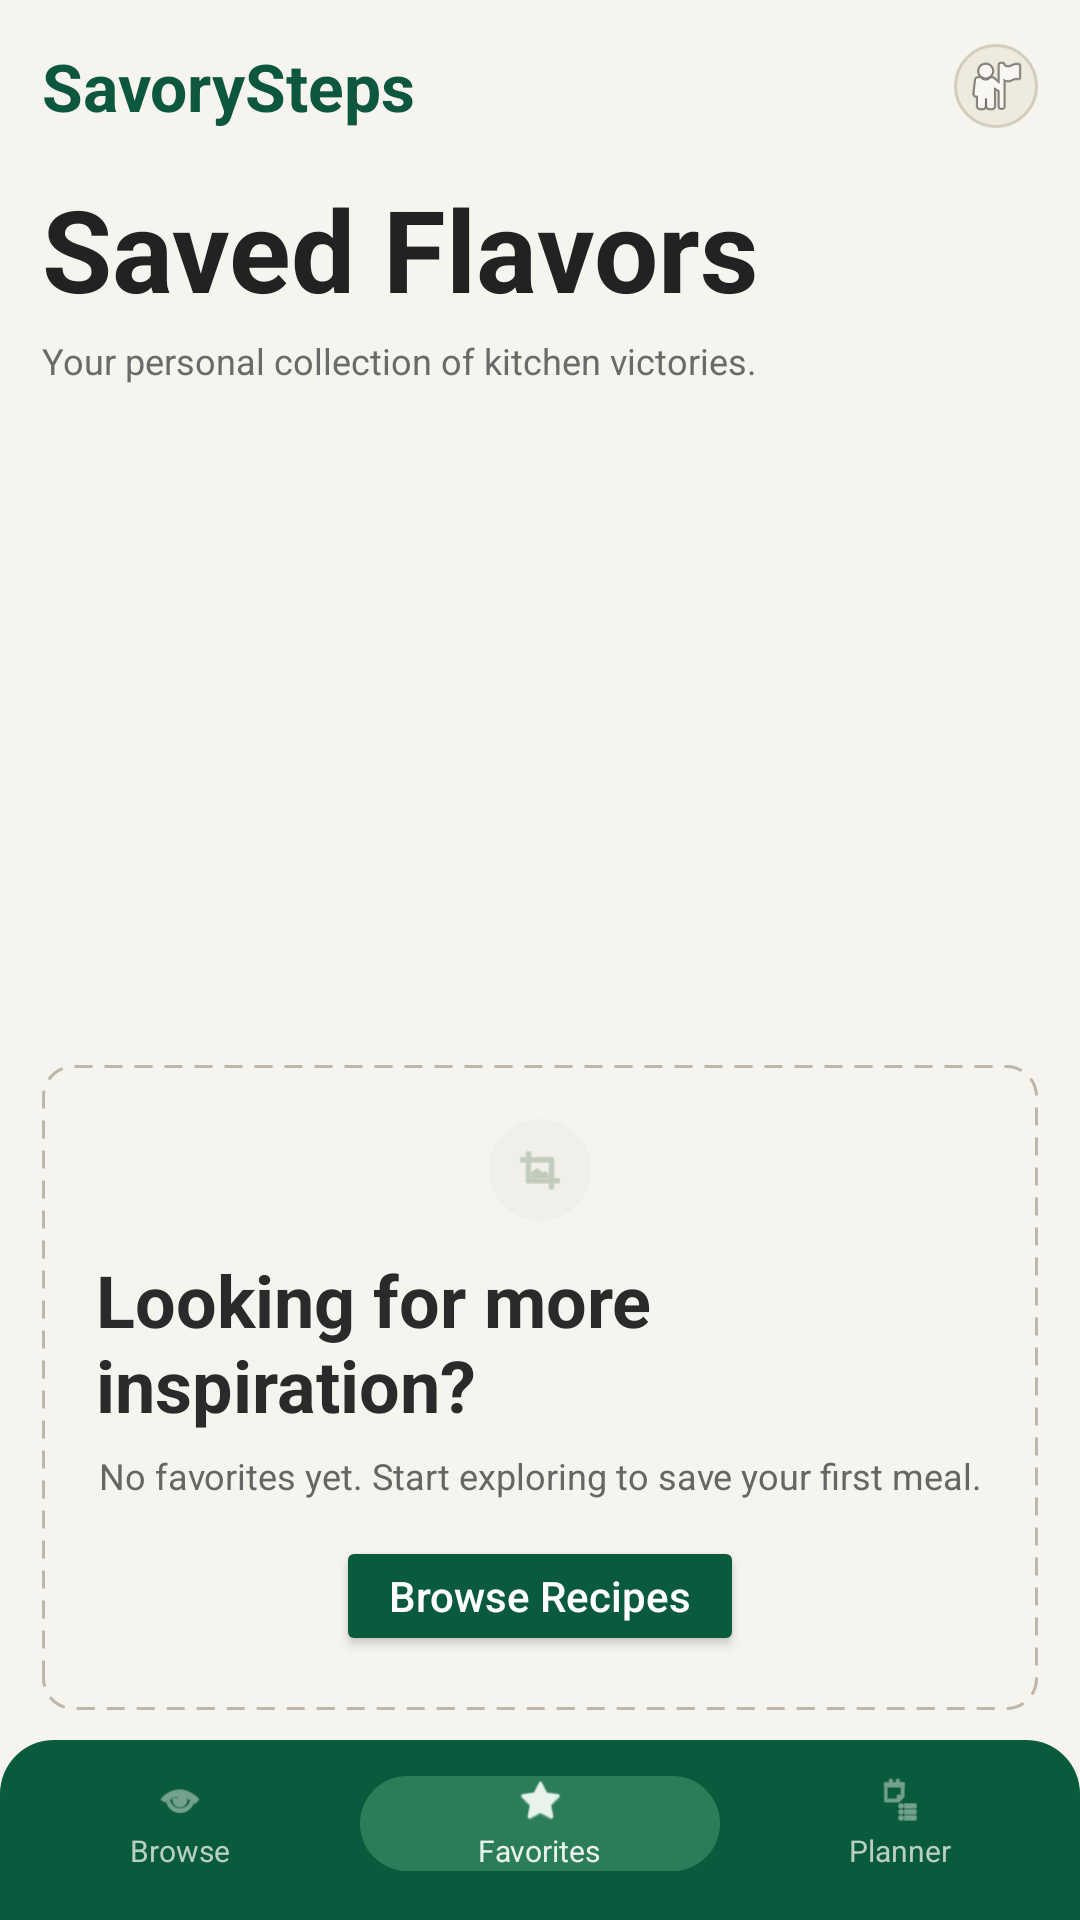

Where icons sit on this 1080px x 1920px app screen, as box=[x1, y1, x2, y2]:
Profile: box=[954, 44, 1038, 128]
view: box=[161, 1789, 199, 1813]
